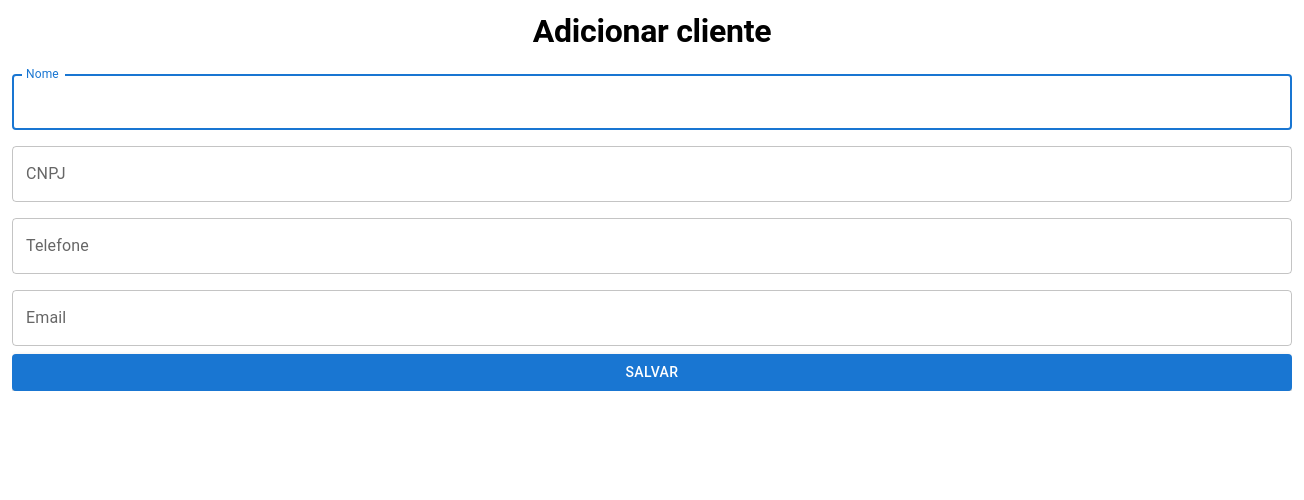
Test case: Teste do formulário de cliente › Deveria mostrar os erros de formulário quando o formulário for vazio
The image size is (1304, 500).
Clicar no botão de submit
Click the button "Salvar" at (652, 373), box 12,354 -> 1292,391
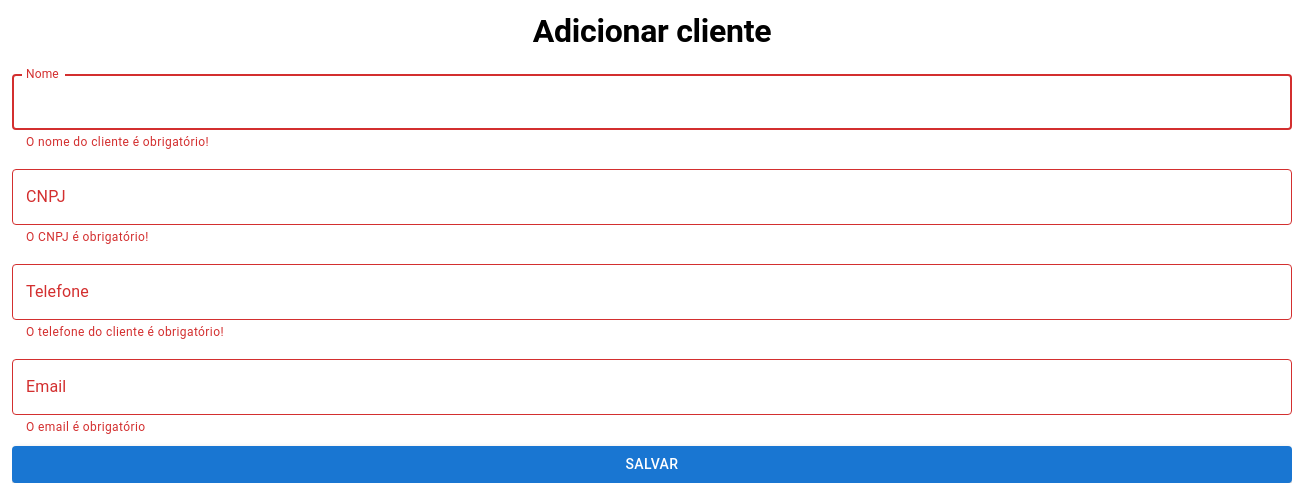
Expected: the text "O nome do cliente é obrigatório!" is shown, 26,135 -> 209,149
Expected: the text "O email é obrigatório" is shown, 26,420 -> 146,434
Expected: the text "O CNPJ é obrigatório!" is shown, 26,230 -> 149,244
